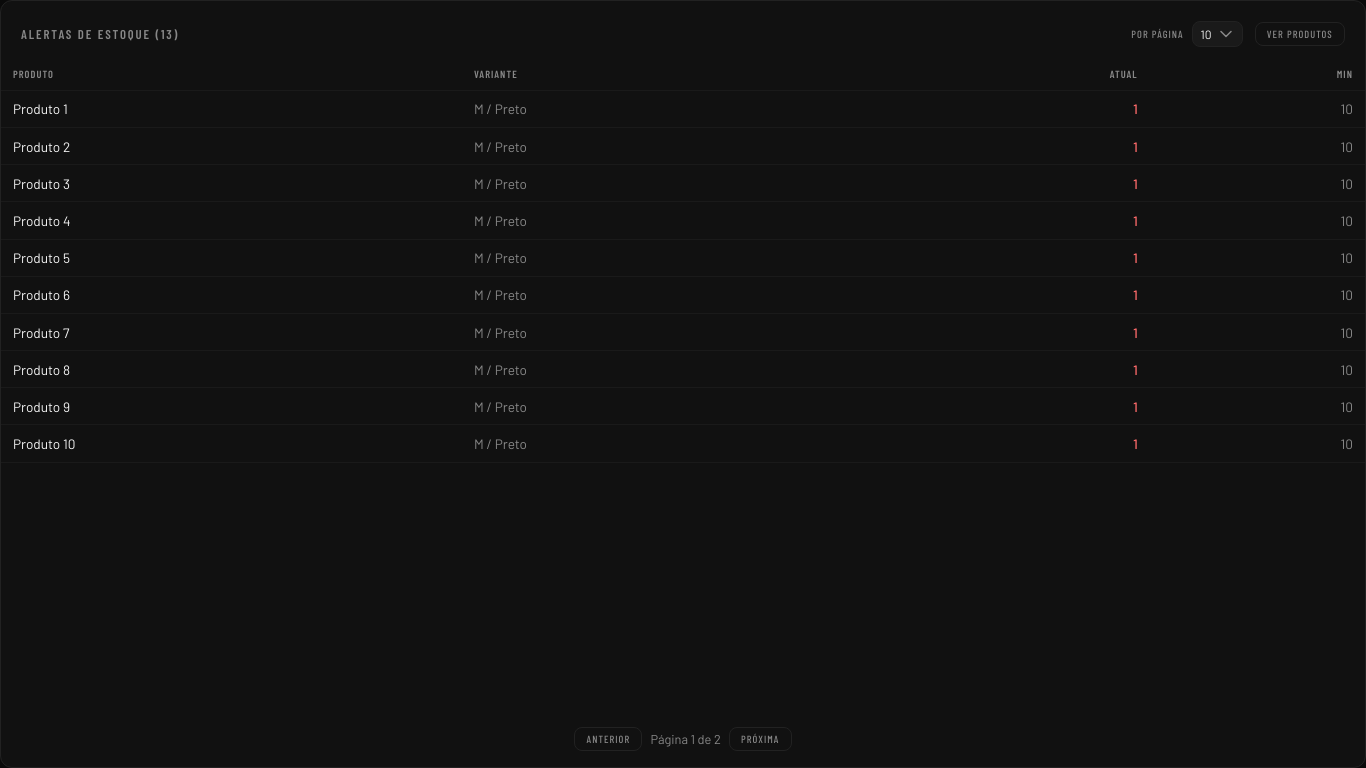
LowStockWidget › paginates large lists at the default page size of 10
Expected: the text "Produto 1" is shown, [1, 90, 462, 128]
Expected: the text "Produto 10" is shown, [1, 425, 462, 462]
Click the button "Próxima" at coordinates (760, 739), box [729, 727, 792, 751]
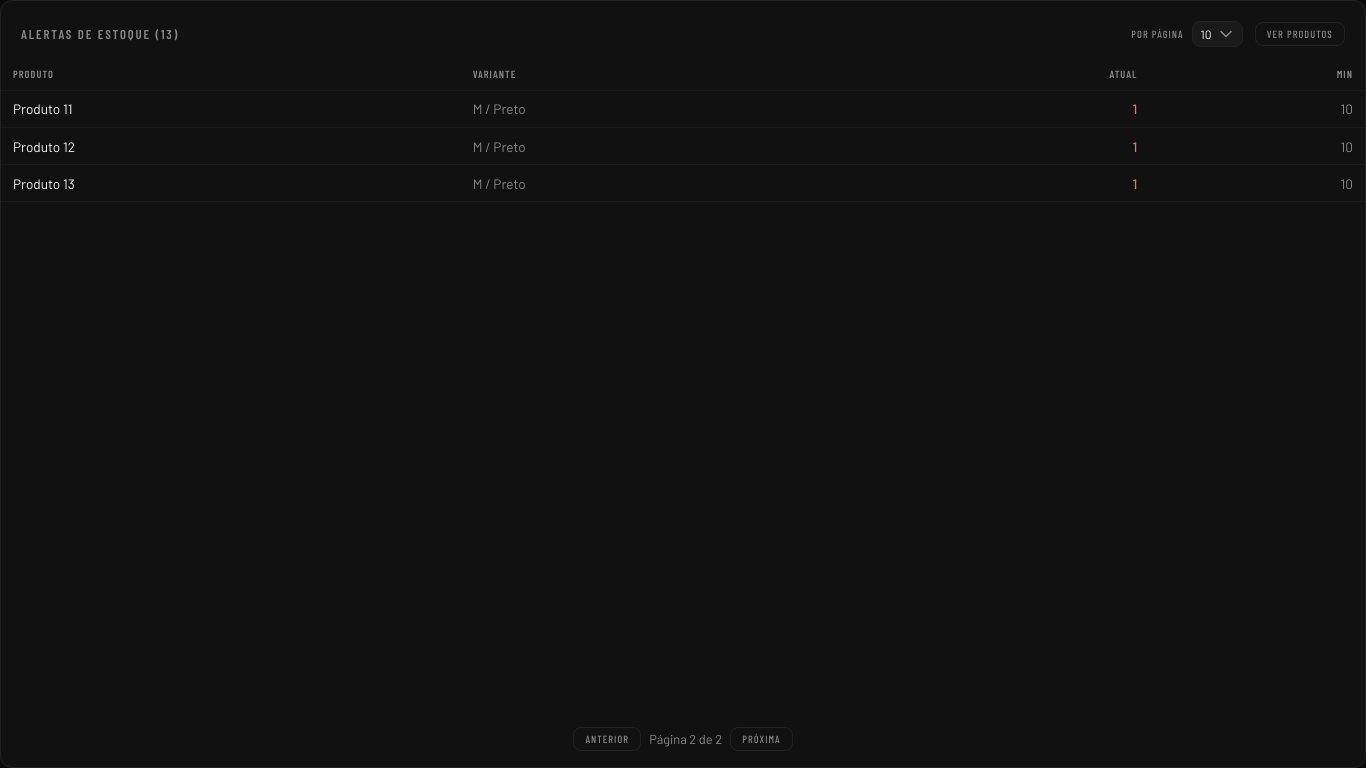
Now the text "Produto 11" is shown, box [1, 90, 461, 128]
